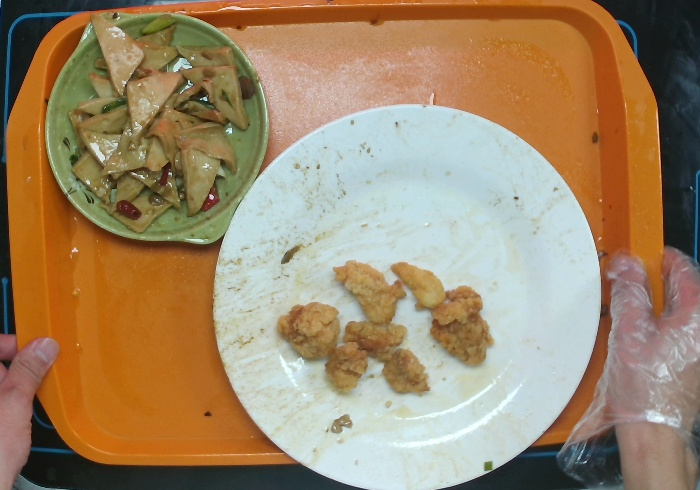NLDX-Da_Yuan_Pan: (209, 102, 604, 489)
NLDX-Lv_Hua_Shuang_Er_Die: (42, 9, 272, 253)
